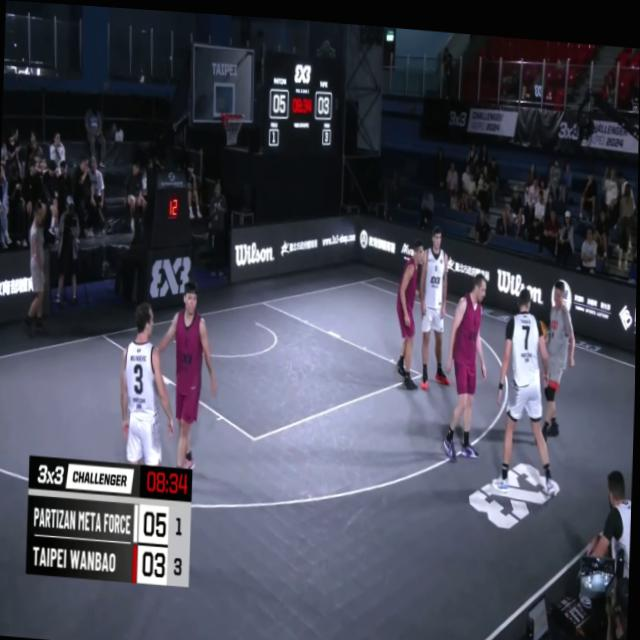ball: (528, 307, 550, 342)
hoop: (220, 102, 244, 144)
player: (492, 280, 559, 489), (154, 277, 222, 474), (119, 300, 178, 465), (444, 264, 490, 458), (419, 220, 455, 384), (394, 232, 423, 388)
